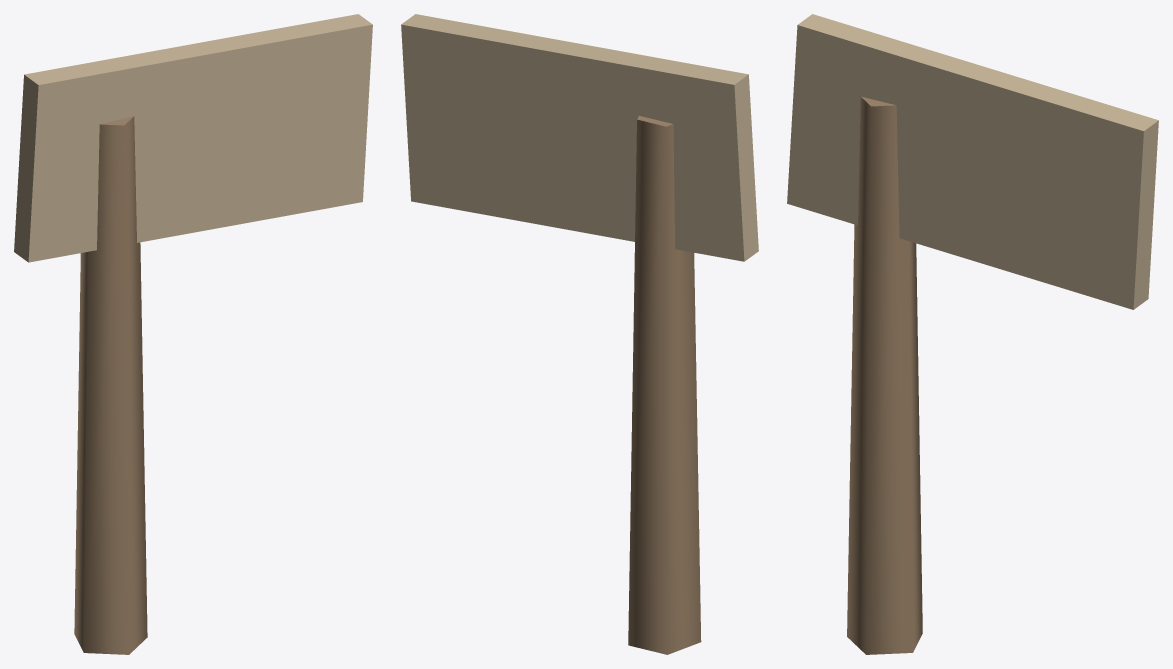
Rendered from signpost.glb.
3 views of the same model, side by side, from view 1: azimuth 30°, elevation 25°; view 2: azimuth 150°, elevation 25°; view 3: azimuth 330°, elevation 25° (orthographic). The views are drawn at different scales.
Parts seen in each view (by area): view 1: signpost; view 2: signpost; view 3: signpost.
Boxes of the visible parts, left/top/right/bottom form: signpost: left=14, top=14, right=372, bottom=654; signpost: left=401, top=14, right=758, bottom=654; signpost: left=787, top=14, right=1158, bottom=654.
Bounding box in the file's own units: 0.8225 × 1.32 × 0.1447.
